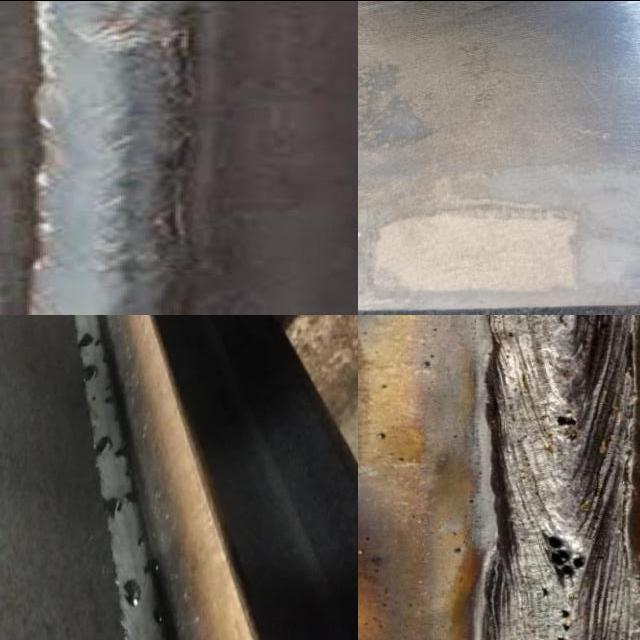defect: (539, 529, 590, 591), (122, 572, 145, 609), (101, 493, 125, 527), (553, 605, 575, 640), (555, 407, 580, 429), (76, 331, 103, 350), (93, 432, 113, 456), (142, 555, 160, 576), (82, 360, 97, 383), (113, 446, 131, 462), (152, 606, 167, 625), (103, 381, 113, 405), (124, 489, 137, 505), (135, 532, 147, 547), (538, 585, 549, 597), (122, 467, 132, 476), (90, 394, 98, 404)
